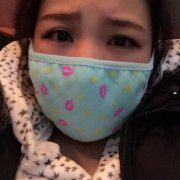OK: (30, 10, 149, 135)
